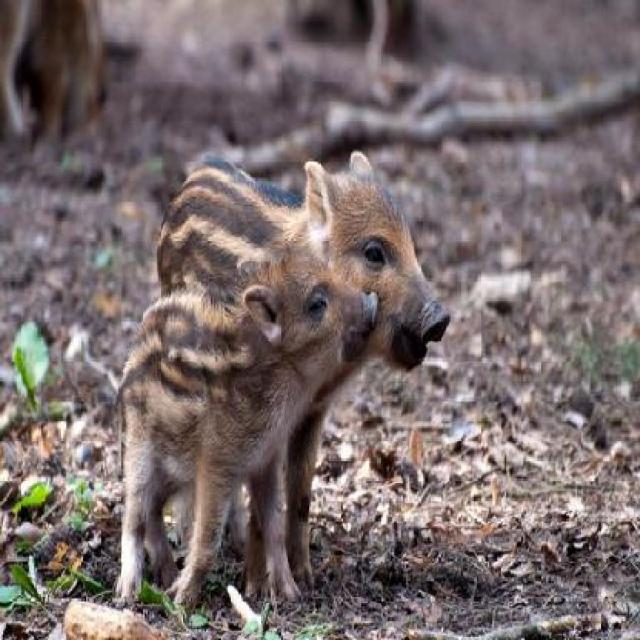Wild Boar: (151, 143, 449, 531), (109, 249, 378, 614)
